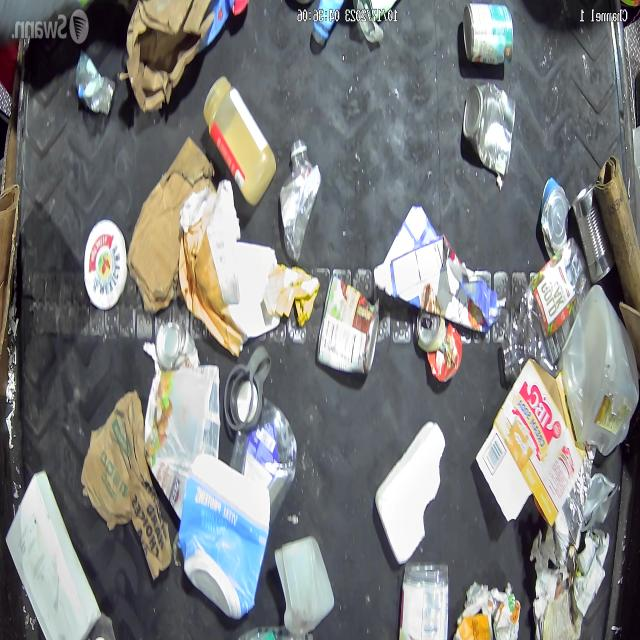can: (316, 272, 380, 376), (464, 78, 514, 178), (571, 180, 612, 285), (462, 1, 514, 68), (416, 309, 462, 384), (153, 314, 191, 372)
milk_jug: (560, 286, 638, 457)
non_white_jug: (180, 453, 270, 621)
